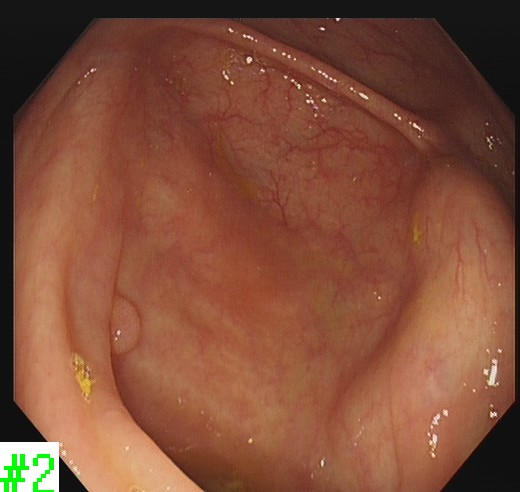adenoma: (107, 292, 143, 359)
